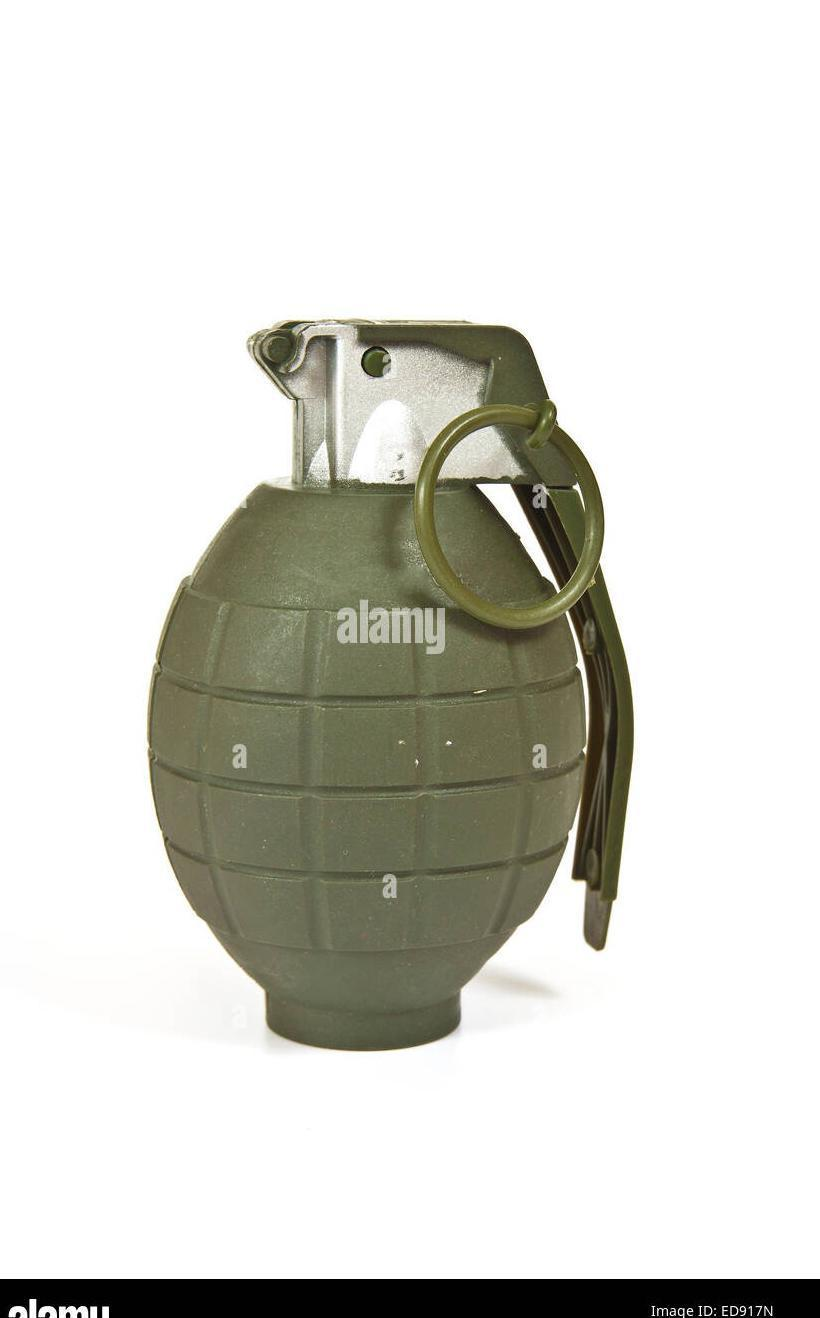Grenade: (144, 313, 638, 1052)
